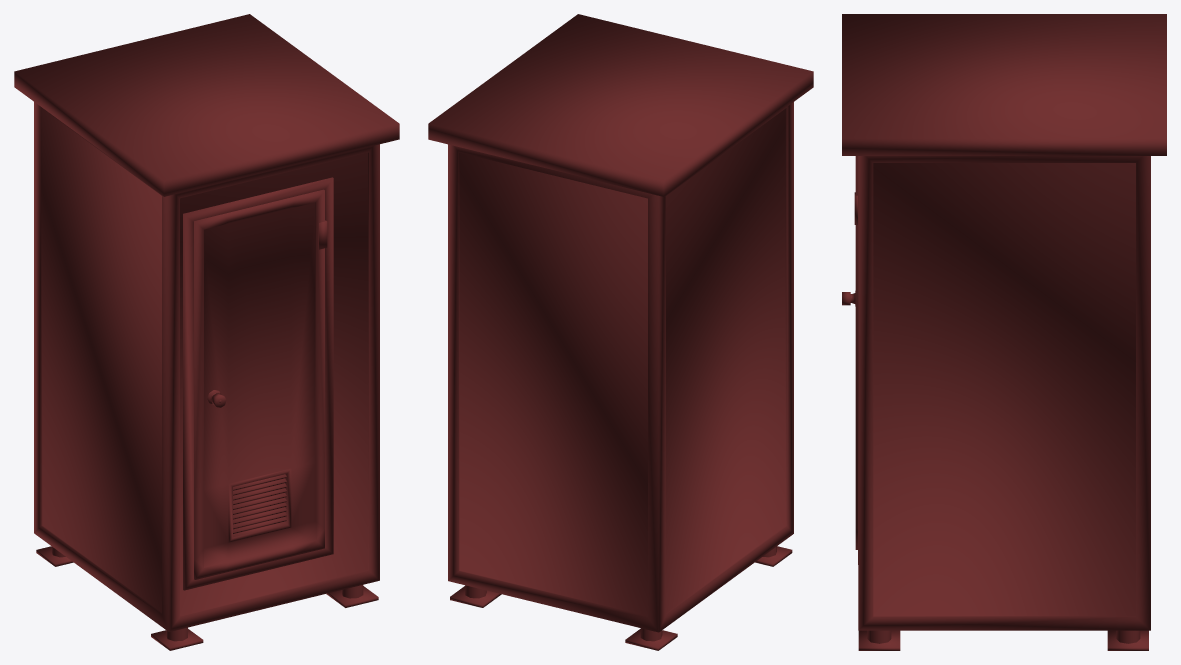
The model's file is 공사장_화장실.fbx.
3 renders of one model, left to right at view 1: azimuth 30°, elevation 25°; view 2: azimuth 150°, elevation 25°; view 3: azimuth 270°, elevation 25°, orthographic. The views are drawn at different scales.
Visible parts, largest first — view 1: 1_low001; view 2: 1_low001; view 3: 1_low001.
Part boxes in pixels (x1,y1,x2,y2): 1_low001: [14, 14, 399, 650]; 1_low001: [428, 14, 813, 650]; 1_low001: [842, 14, 1166, 650].
Size of the model in its own units: 1113 by 2163 by 1226.
